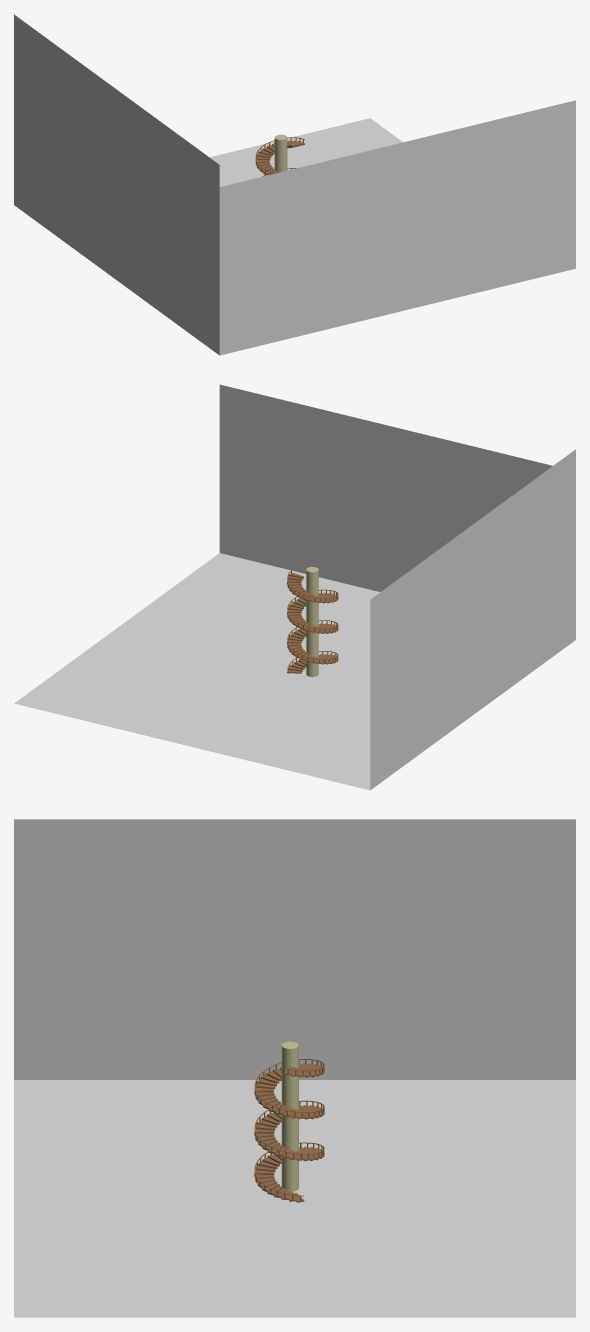
Rendered from spiralStaircase.fbx.
3 views of the same model, one above another, from view 1: azimuth 30°, elevation 25°; view 2: azimuth 150°, elevation 25°; view 3: azimuth 270°, elevation 25° (orthographic). The views are drawn at different scales.
Parts seen in each view (by area): view 1: 平面, 円柱, 円柱.001; view 2: 平面, 円柱, 円柱.001; view 3: 平面, 円柱, 円柱.001.
Part boxes in pixels (x1,y1,x2,y2): 平面: [14, 14, 575, 355]; 円柱: [255, 137, 304, 176]; 円柱.001: [274, 134, 287, 172]; 平面: [14, 384, 575, 790]; 円柱: [287, 568, 338, 673]; 円柱.001: [306, 567, 318, 676]; 平面: [14, 819, 575, 1317]; 円柱: [254, 1059, 324, 1202]; 円柱.001: [281, 1041, 298, 1191].
Bounding box in the file's own units: 1406 × 729 × 1406.
